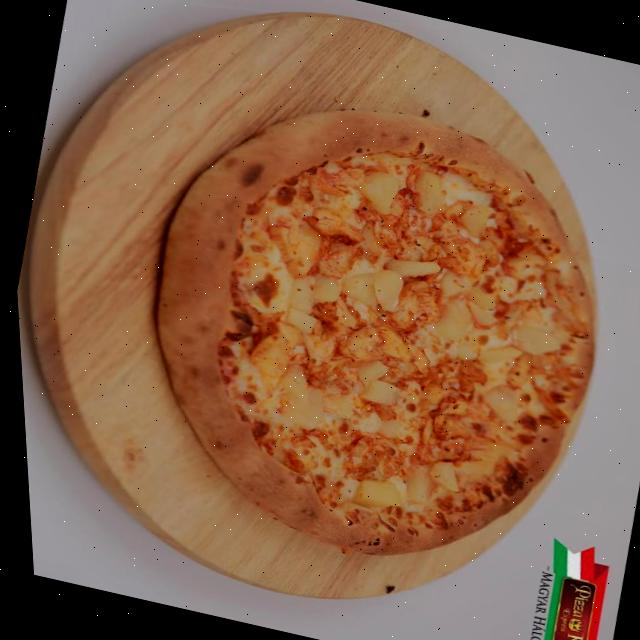pizza: (95, 67, 640, 594)
